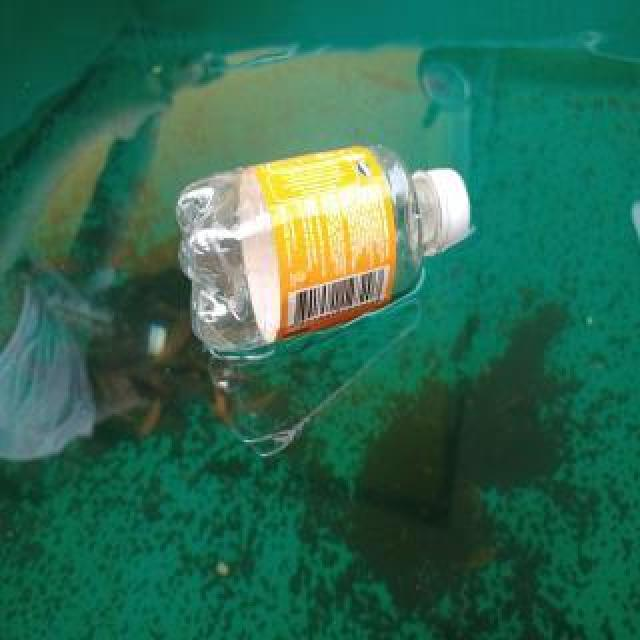bottle: (173, 140, 473, 356)
